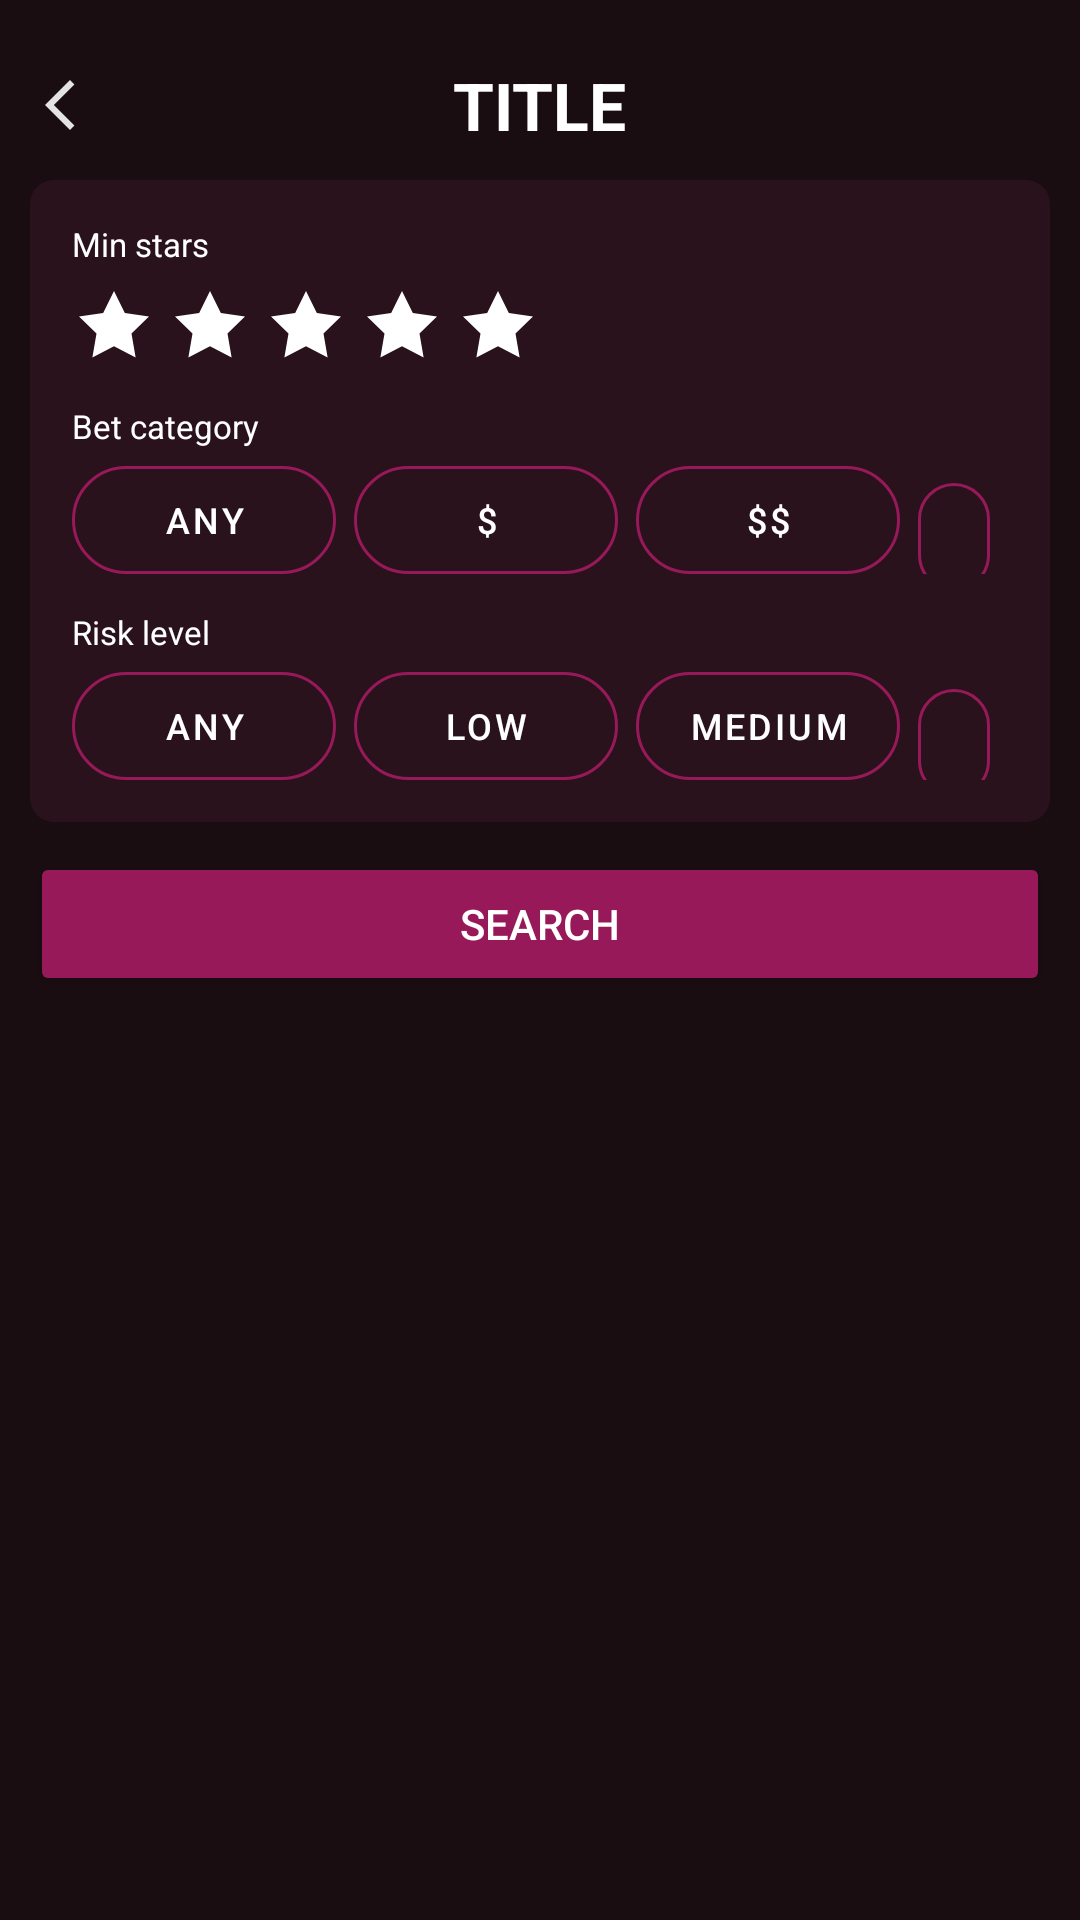

Icons on this 1080*1920 Android screen, each with its box as (x1, y1, x2, y2):
Back: (45, 80, 75, 130)
